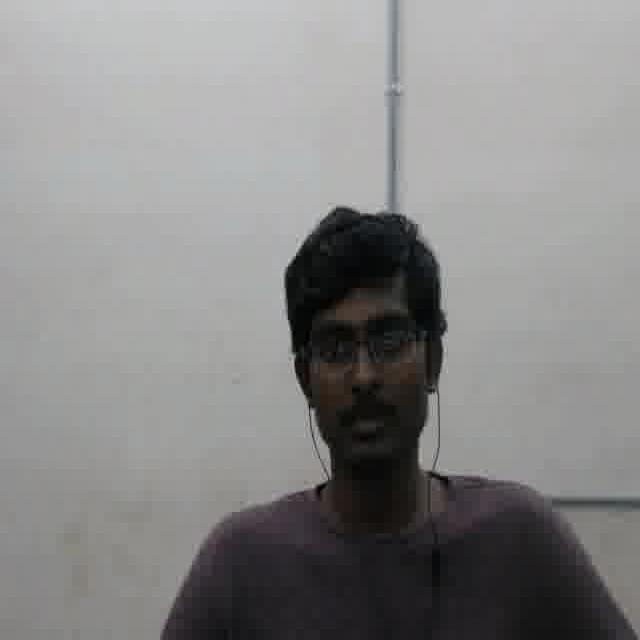Engaged: (305, 280, 422, 468)
